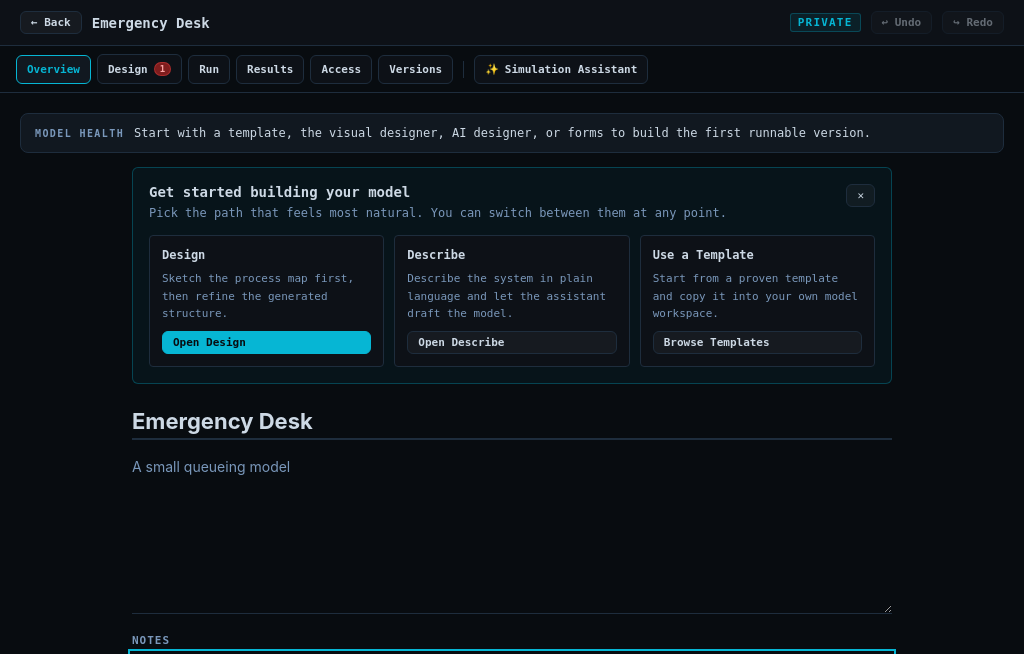
Test: model JSON export › renders the Export Model button for a loaded model
This screenshot has width=1024, height=654.
Click the button "Access".
click(341, 69)  # box [310,54,372,84]
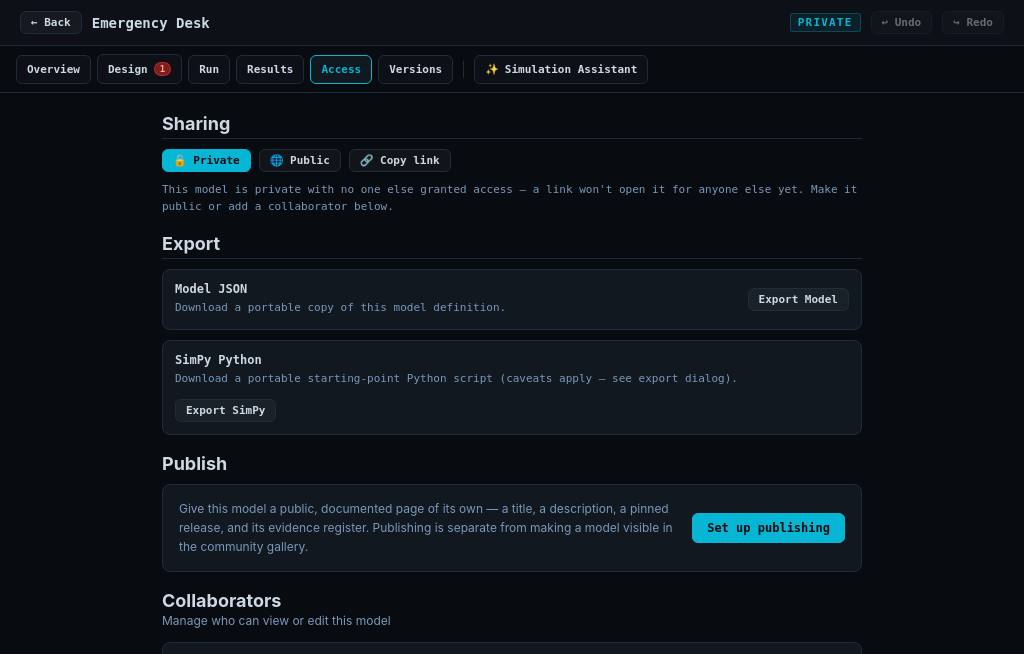
Now the button "Export Model" is shown, box [748,288,849,311]
